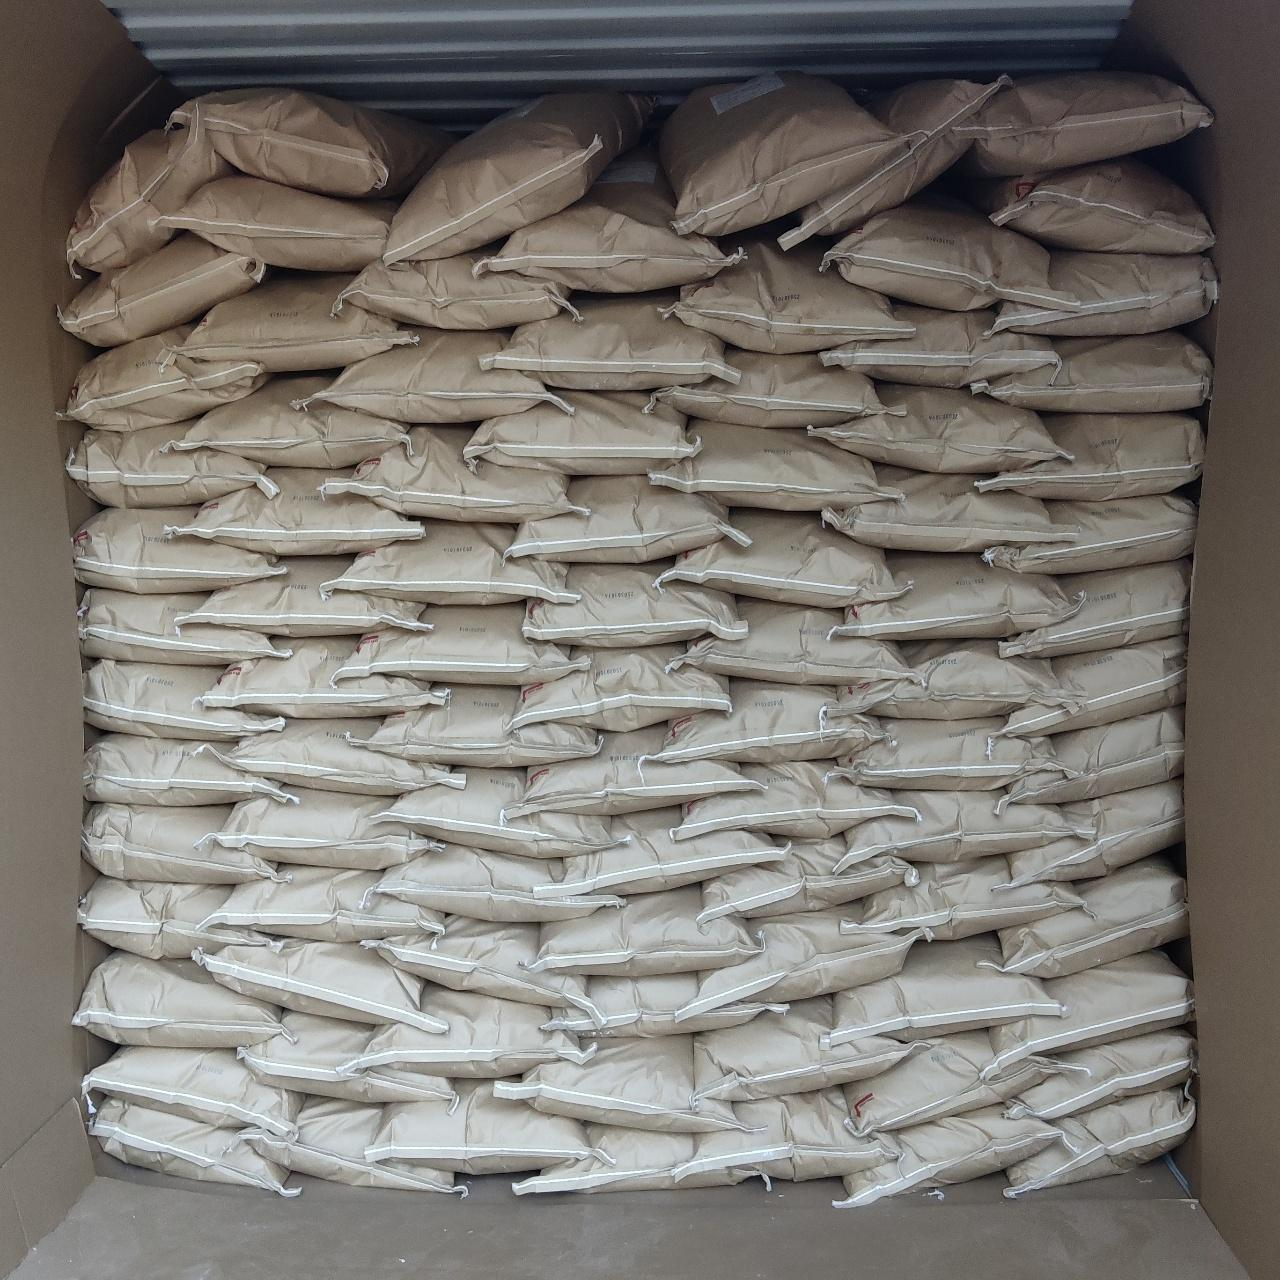sack: (386, 91, 648, 263), (779, 75, 1012, 250), (663, 74, 906, 232), (482, 156, 740, 292), (173, 90, 454, 198), (822, 192, 1062, 309), (66, 113, 238, 275), (956, 72, 1210, 176), (663, 241, 904, 350), (826, 937, 1062, 1046), (481, 294, 730, 390), (322, 428, 584, 518), (992, 949, 1190, 1068), (968, 156, 1212, 252), (666, 510, 906, 606), (992, 856, 1186, 974), (694, 903, 915, 1006), (182, 274, 414, 372), (200, 938, 444, 1030), (496, 1036, 736, 1130), (60, 234, 266, 343), (368, 768, 626, 855), (838, 1107, 1062, 1206), (846, 1032, 1064, 1133), (158, 176, 394, 270), (316, 331, 552, 422), (506, 726, 750, 813), (813, 384, 1062, 470), (652, 420, 886, 510), (88, 1094, 298, 1194), (696, 998, 906, 1098), (240, 1098, 464, 1192), (173, 470, 422, 554), (546, 808, 787, 894), (64, 328, 268, 430), (176, 374, 406, 464), (374, 1080, 592, 1175), (360, 986, 583, 1078), (368, 918, 590, 1010), (836, 552, 1074, 638), (336, 604, 583, 685), (1008, 1088, 1194, 1194), (676, 598, 904, 685), (334, 522, 574, 604), (824, 467, 1060, 550), (238, 1012, 454, 1102), (532, 888, 758, 974), (968, 331, 1210, 410), (824, 304, 1058, 386), (686, 1090, 894, 1182), (506, 478, 745, 558), (360, 686, 598, 765), (200, 638, 442, 716), (182, 558, 430, 634), (76, 952, 278, 1046), (842, 858, 1078, 938), (1006, 779, 1182, 886), (835, 790, 1073, 869), (467, 392, 696, 472), (978, 414, 1201, 496), (992, 252, 1216, 334), (374, 844, 622, 918), (674, 762, 914, 838), (646, 350, 890, 425), (526, 561, 742, 646), (84, 1048, 300, 1132), (512, 646, 728, 730), (700, 836, 914, 920), (1000, 708, 1182, 808), (207, 866, 444, 942), (216, 788, 438, 869), (830, 642, 1064, 719), (218, 720, 459, 794), (1000, 638, 1184, 734), (654, 680, 878, 758), (340, 252, 574, 326), (1002, 561, 1189, 654), (1006, 1028, 1194, 1118), (68, 422, 275, 504), (76, 508, 280, 590), (516, 1126, 768, 1192), (836, 716, 1060, 790), (983, 496, 1192, 572), (79, 878, 275, 958), (84, 804, 278, 884), (86, 660, 280, 738), (80, 590, 288, 662), (86, 734, 294, 806), (544, 974, 782, 1036)
